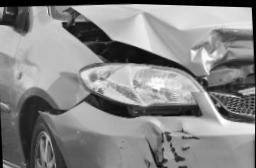Bonnet: (62, 3, 256, 119)
Bumper: (41, 89, 255, 168)
